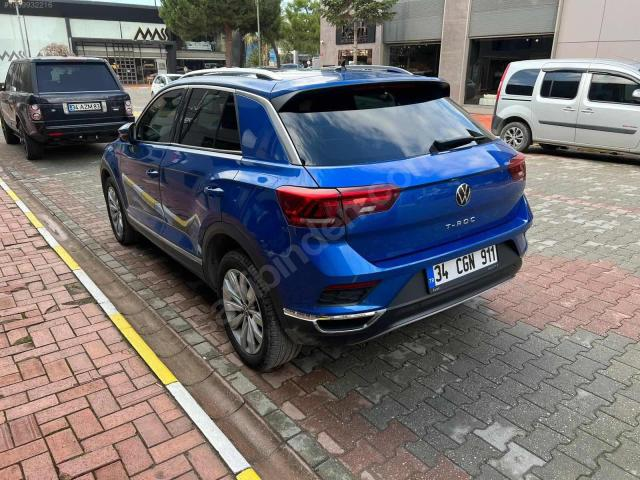plaka: (426, 245, 498, 292), (68, 103, 101, 112)
